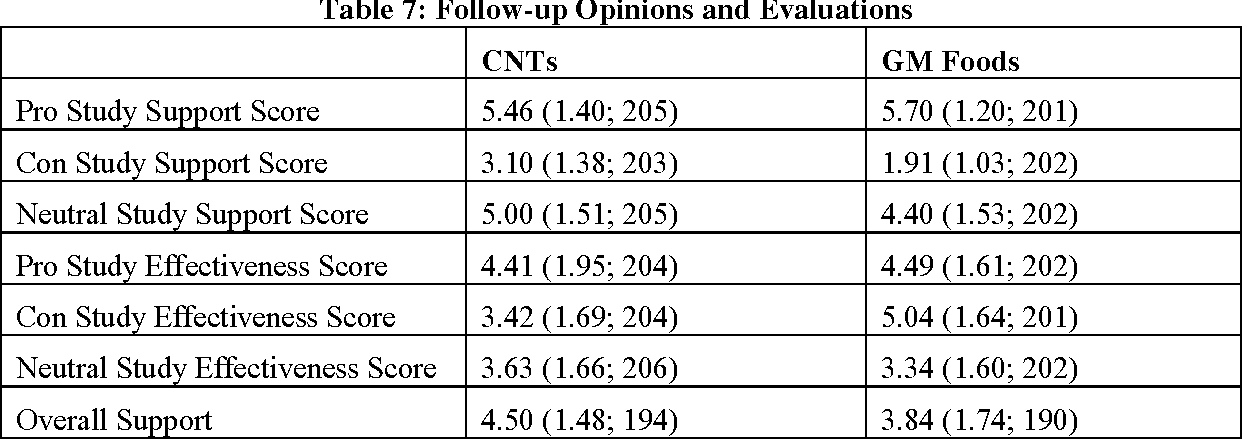fracking table: (1, 1, 1242, 440)
